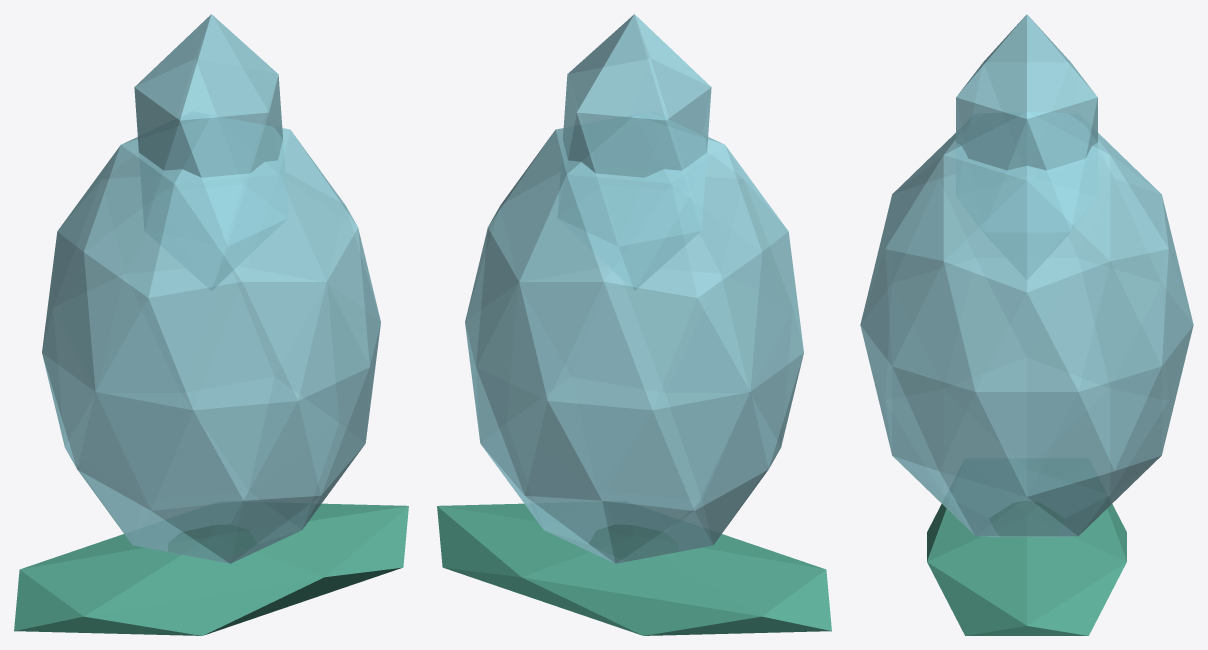
The model's file is food_dew.glb.
3 renders of one model, left to right at view 1: azimuth 30°, elevation 25°; view 2: azimuth 150°, elevation 25°; view 3: azimuth 270°, elevation 25°, orthographic. The views are drawn at different scales.
Parts seen in each view (by area): view 1: Dew | drop, Dew | leaf, Dew | tip; view 2: Dew | drop, Dew | leaf, Dew | tip; view 3: Dew | drop, Dew | tip, Dew | leaf.
Boxes of the visible parts, <box> form: Dew | drop: <box>42,112,380,563</box>; Dew | leaf: <box>14,503,408,635</box>; Dew | tip: <box>134,14,288,290</box>; Dew | drop: <box>465,112,803,563</box>; Dew | leaf: <box>437,503,831,635</box>; Dew | tip: <box>557,14,711,290</box>; Dew | drop: <box>860,112,1193,537</box>; Dew | tip: <box>956,14,1097,279</box>; Dew | leaf: <box>927,500,1126,635</box>.
Size of the model in its own units: 0.4472 by 0.635 by 0.34.
